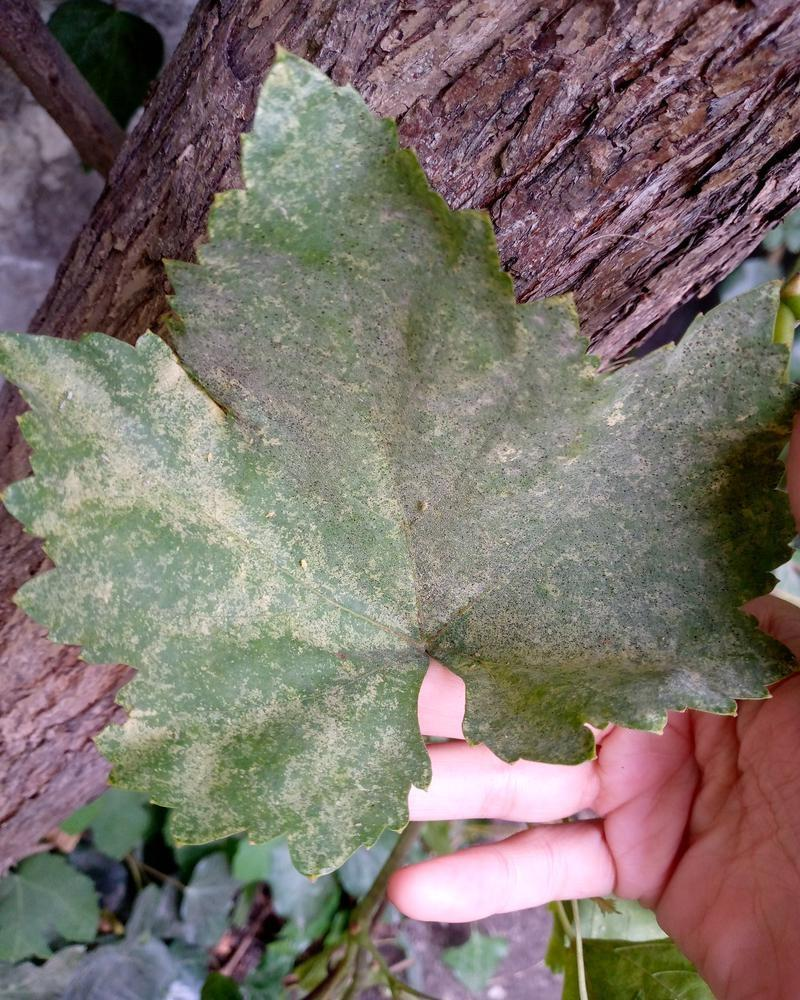Powdery-Mildew: (487, 301, 790, 511), (106, 664, 410, 871), (18, 541, 462, 668), (31, 351, 270, 558), (283, 348, 487, 537), (194, 194, 431, 335), (509, 607, 767, 724), (243, 53, 375, 236), (500, 507, 668, 596)
